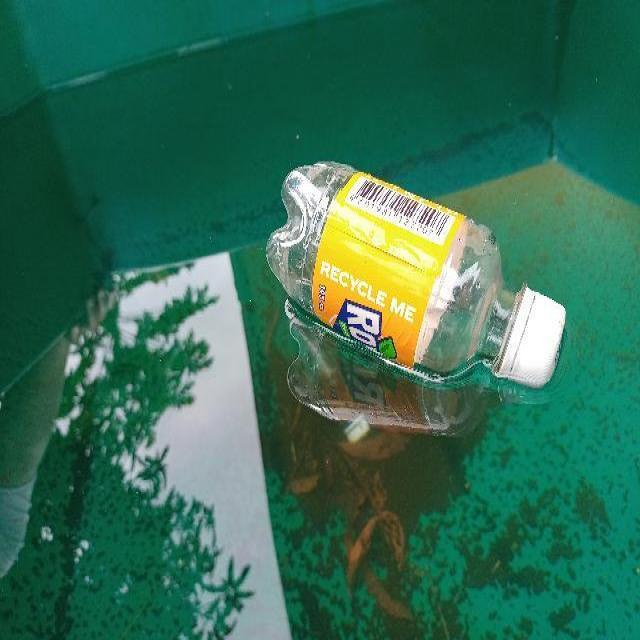Bottle: (259, 150, 575, 401)
